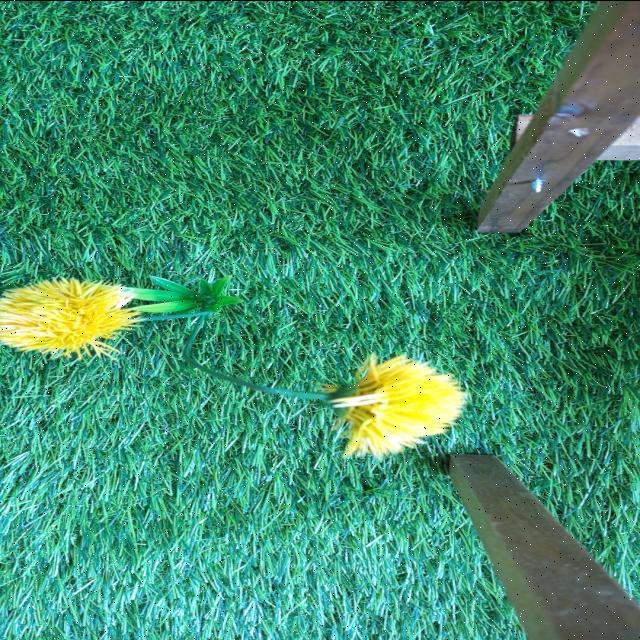base: (121, 270, 236, 320)
flower: (329, 356, 464, 448), (0, 276, 131, 354)
